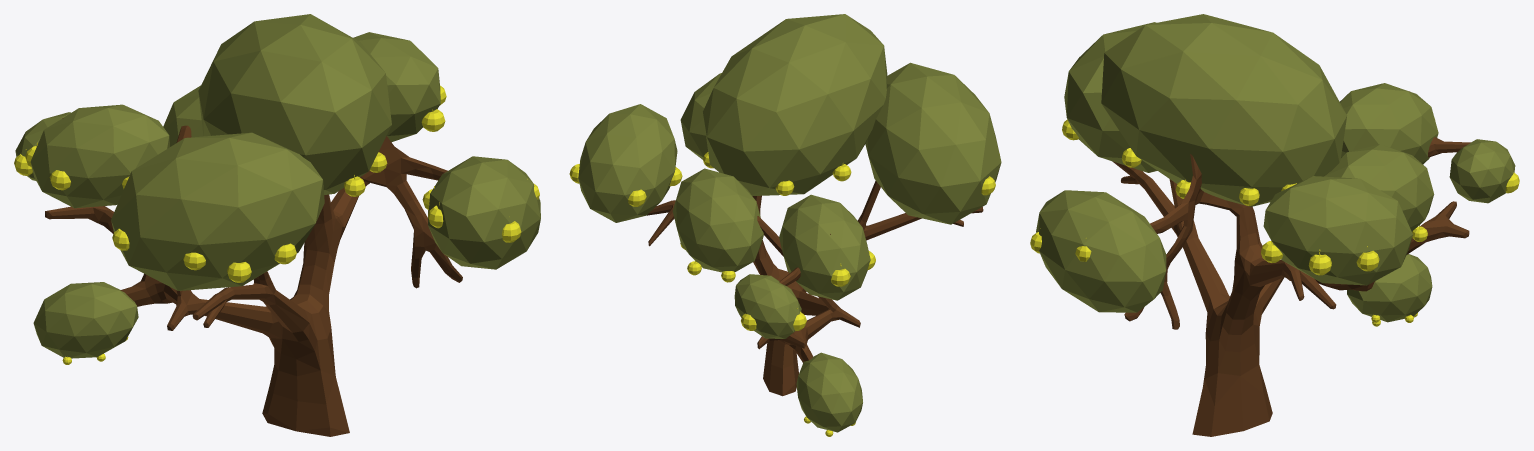
File: tree08.fbx
3 views of the same model, side by side, from view 1: azimuth 30°, elevation 25°; view 2: azimuth 150°, elevation 25°; view 3: azimuth 270°, elevation 25° (orthographic). The views are drawn at different scales.
Parts seen in each view (by area): view 1: Plane.025; view 2: Plane.025; view 3: Plane.025.
Part boxes in pixels (bbox=[...]): Plane.025: bbox=[14, 14, 540, 436]; Plane.025: bbox=[569, 14, 1001, 436]; Plane.025: bbox=[1030, 14, 1519, 436].
Bounding box in the file's own units: 2.14 × 2.07 × 2.33.
